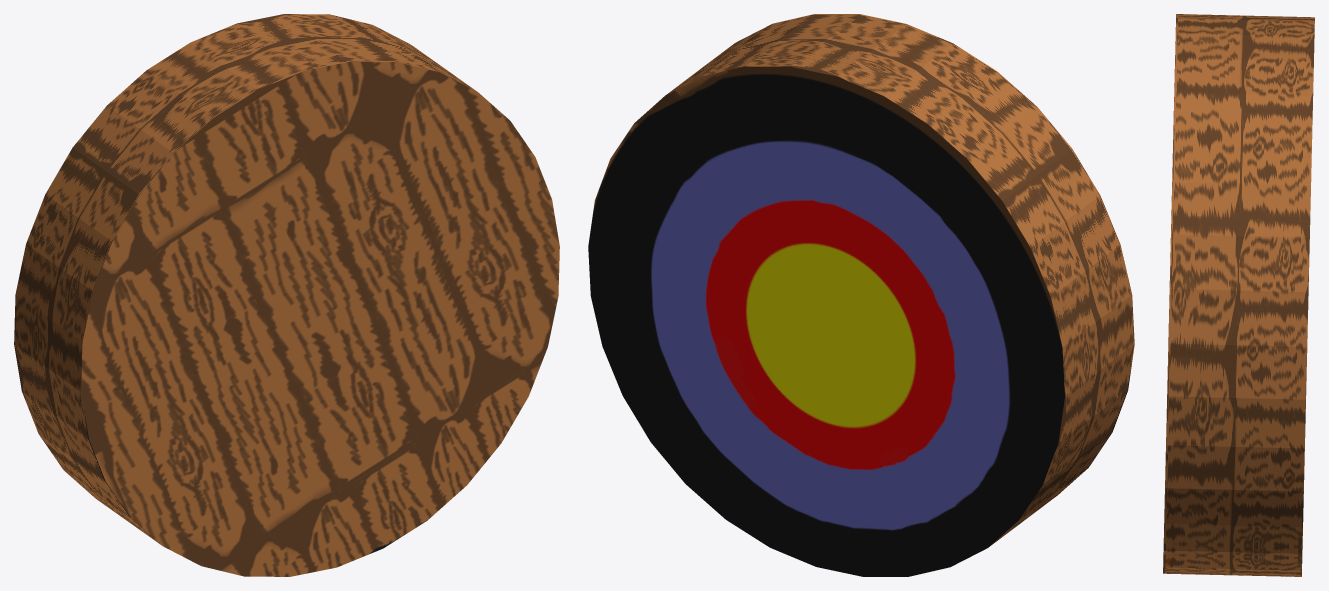
File: New Target.fbx
3 renders of one model, left to right at view 1: azimuth 30°, elevation 25°; view 2: azimuth 150°, elevation 25°; view 3: azimuth 270°, elevation 25°, orthographic.
Visible parts, largest first — view 1: Cylinder.001; view 2: Cylinder.001; view 3: Cylinder.001.
Part boxes in pixels (box(x1,y1,x2,y2)): Cylinder.001: box(14, 14, 559, 576); Cylinder.001: box(588, 14, 1134, 576); Cylinder.001: box(1163, 14, 1314, 576).
Size of the model in its own units: 198 by 199 by 53.7.
